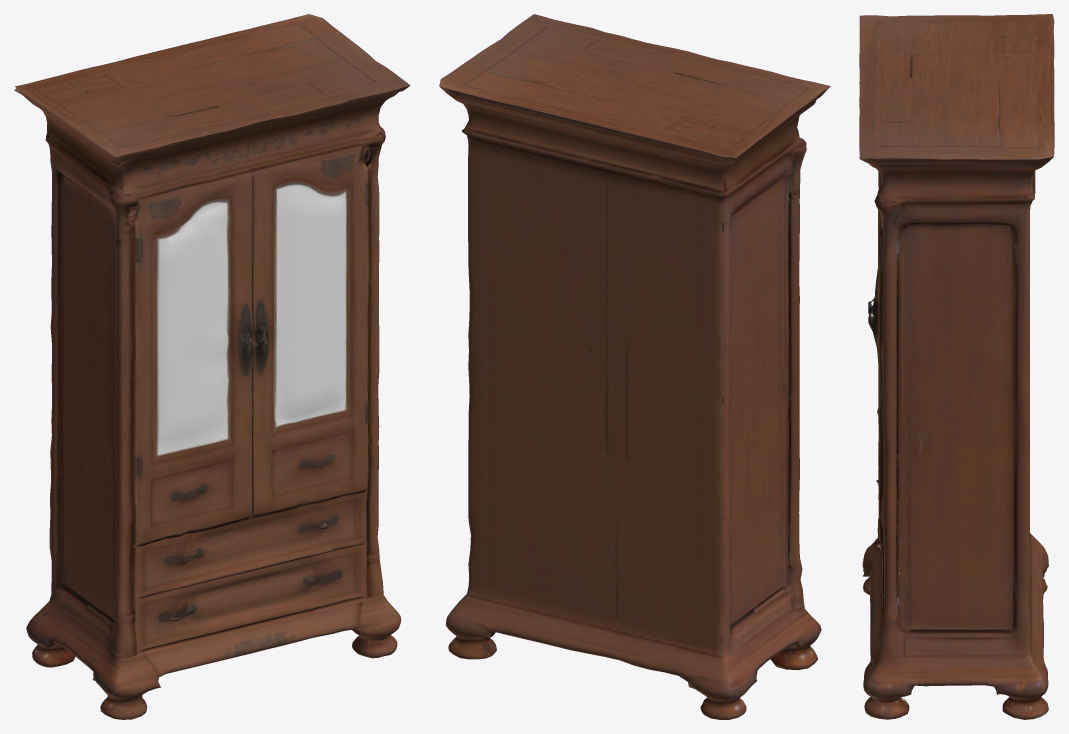
File: Wardrobe.glb
3 views of the same model, side by side, from view 1: azimuth 30°, elevation 25°; view 2: azimuth 150°, elevation 25°; view 3: azimuth 270°, elevation 25° (orthographic).
Parts seen in each view (by area): view 1: Mesh0; view 2: Mesh0; view 3: Mesh0.
Part boxes in pixels (x1=…): Mesh0: x1=14, y1=14, x2=410, y2=719; Mesh0: x1=439, y1=14, x2=830, y2=719; Mesh0: x1=859, y1=14, x2=1054, y2=719.
Size of the model in its own units: 1.06 by 1.91 by 0.5995.
Materials: 1 (1 with a texture image).
